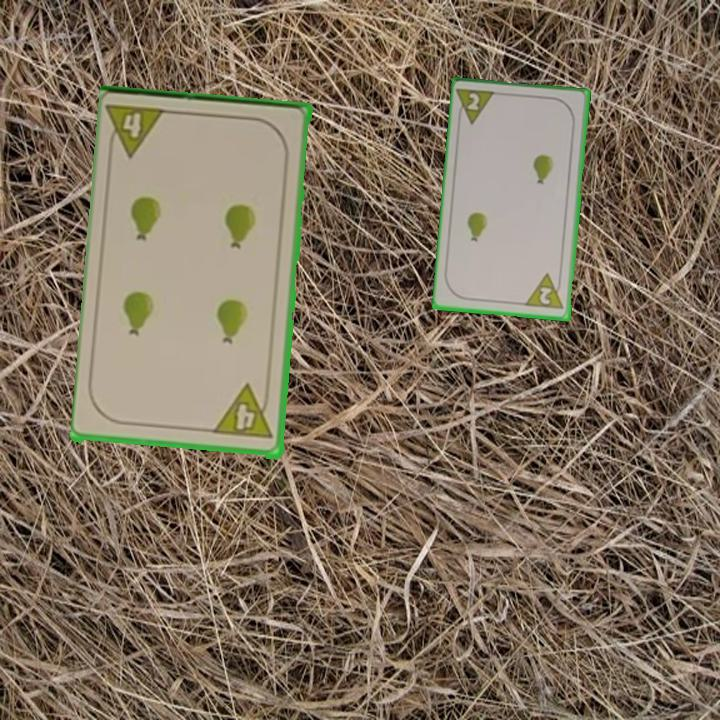2p: (523, 270, 567, 313), (455, 86, 500, 128)
4p: (104, 100, 171, 161), (211, 383, 276, 443)
